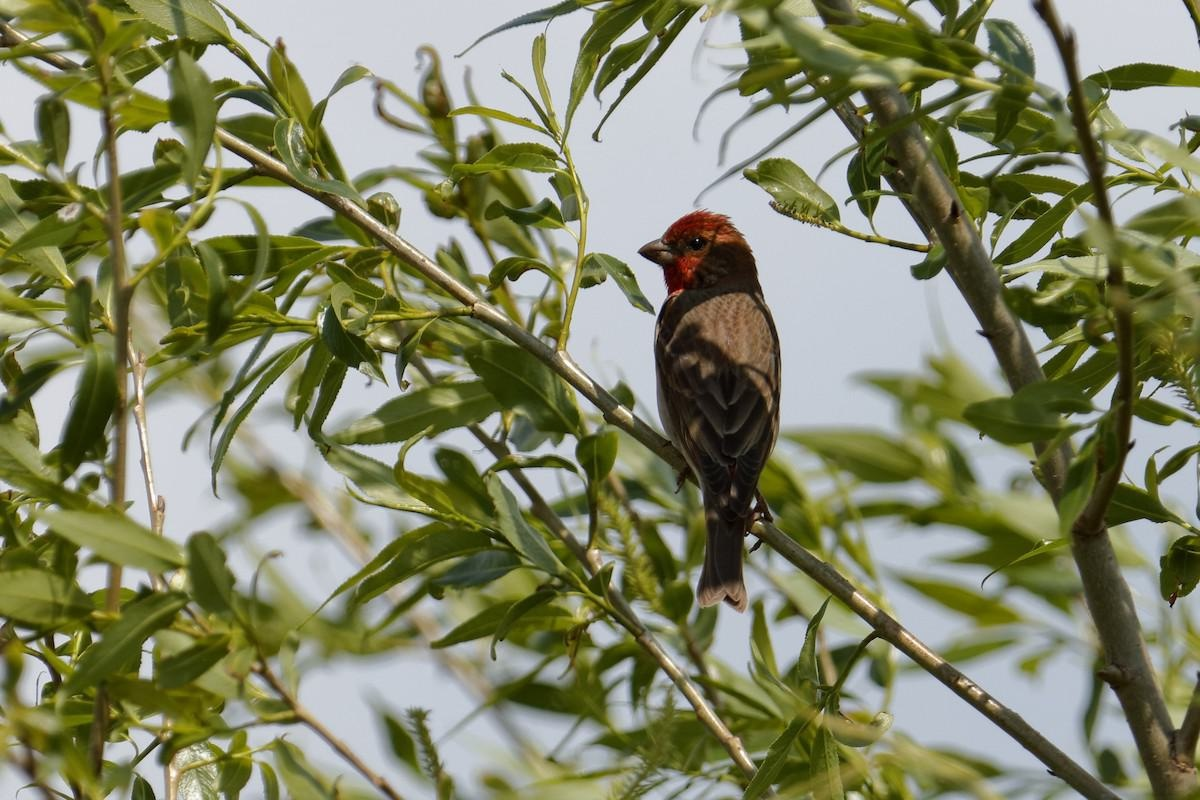rosefinch: (621, 191, 791, 585)
